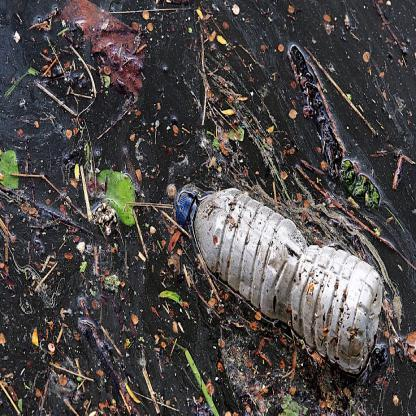bottle: (162, 162, 398, 385)
